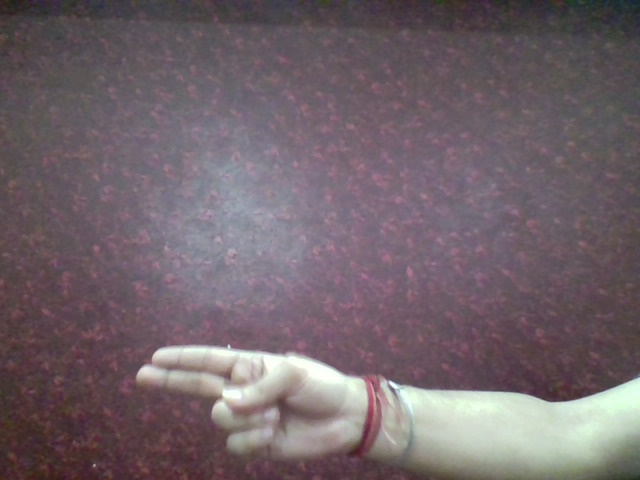h: (118, 318, 352, 469)
